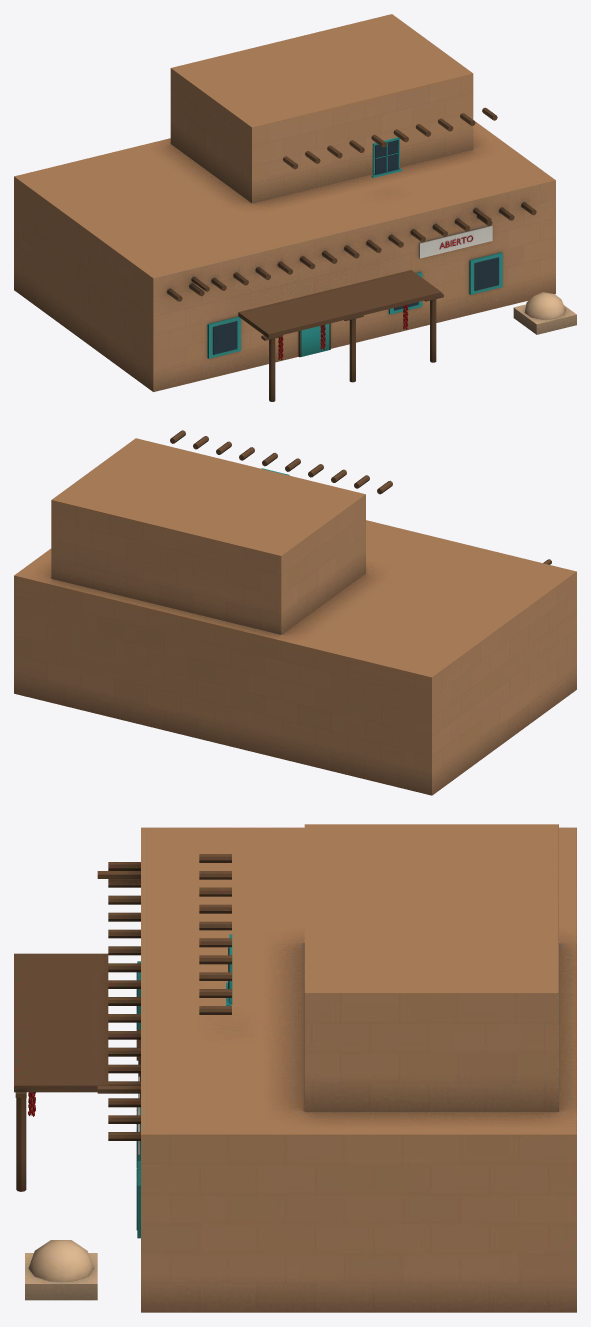
Rendered from casa_adobe.glb.
3 renders of one model, top to bottom at view 1: azimuth 30°, elevation 25°; view 2: azimuth 150°, elevation 25°; view 3: azimuth 270°, elevation 25°, orthographic. The views are drawn at different scales.
Parts seen in each view (by area): view 1: casa_adobe; view 2: casa_adobe; view 3: casa_adobe.
Part boxes in pixels (x1=…): casa_adobe: x1=14, y1=14, x2=576, y2=401; casa_adobe: x1=14, y1=430, x2=576, y2=795; casa_adobe: x1=14, y1=824, x2=576, y2=1312.
Bounding box in the file's own units: 20 × 9 × 15.5.
1 material, 1 textured.
